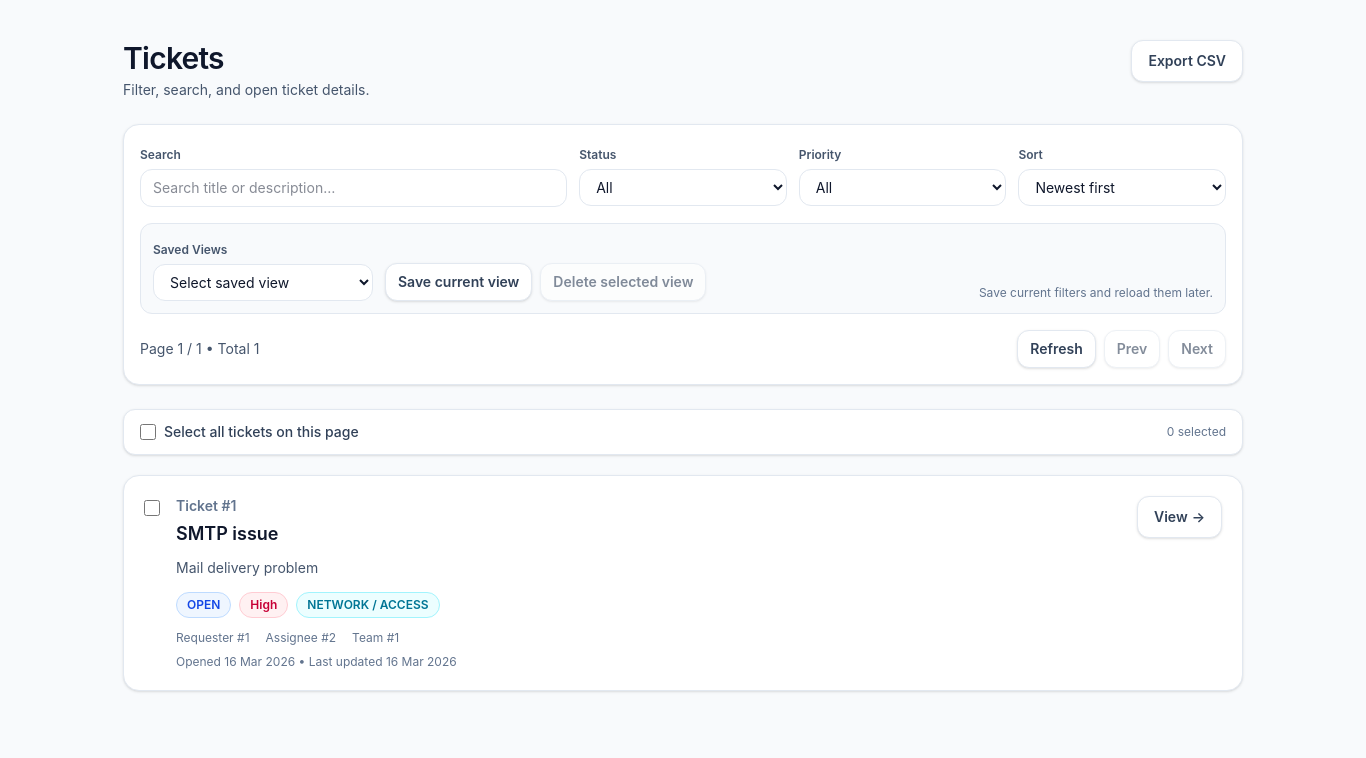
Test: TicketListPage › shows bulk action bar when a ticket is selected
This screenshot has width=1366, height=758.
Click the 2nd checkbox.
click(152, 508)  # box [144,500,160,516]
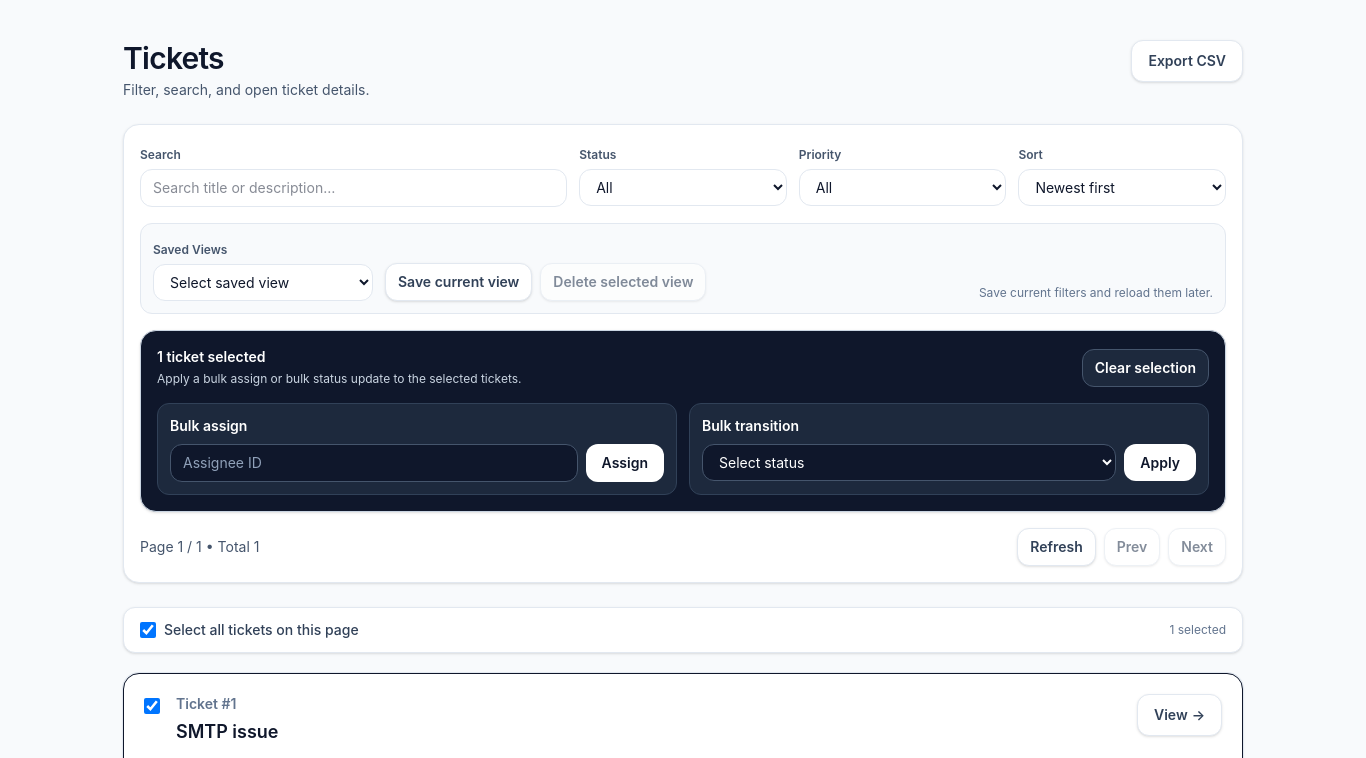
Expected: the text "Bulk assign" is shown, [170,417,247,434]
Expected: the text "Bulk transition" is shown, [702,417,799,434]
Expected: the button "Clear selection" is shown, [1082,349,1209,387]
